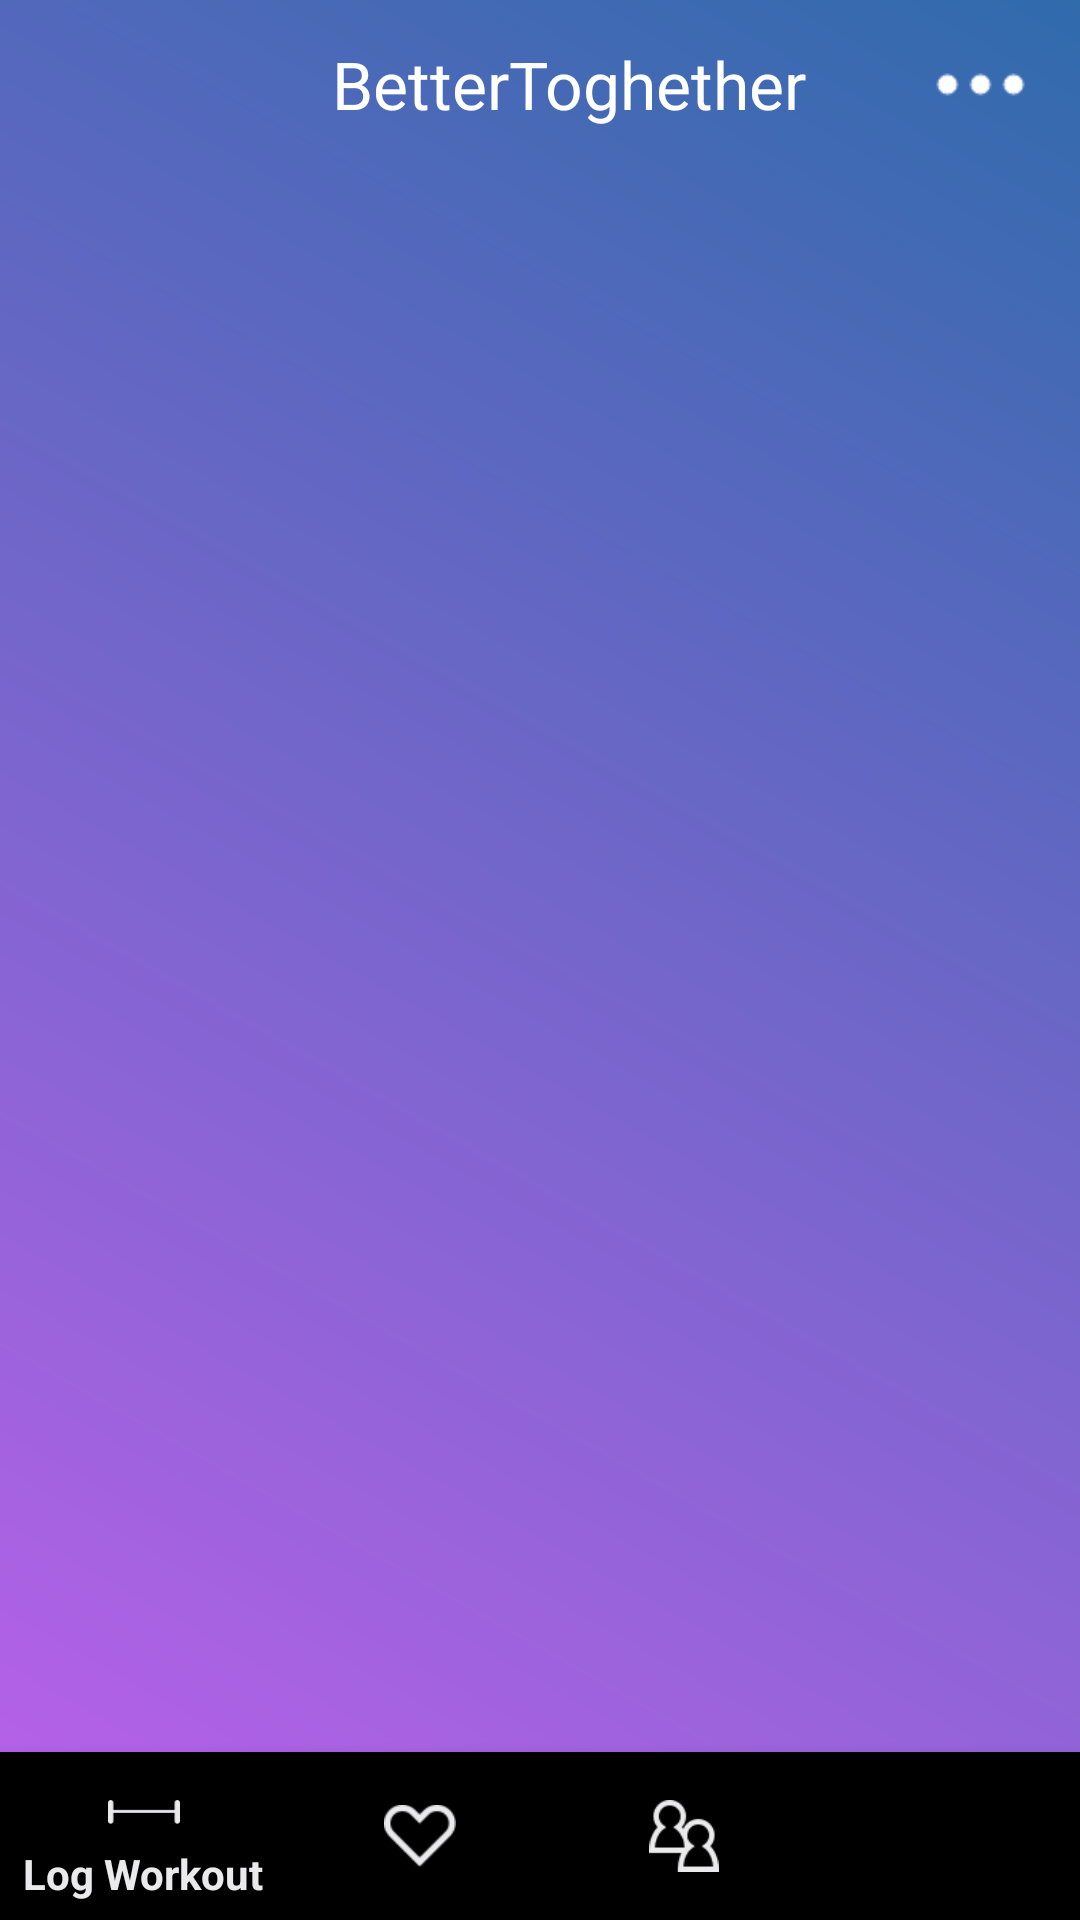

Locate icon controls on the screen. Image size 1080*1920, boxes as (x1, y1, x2, y2).
dot menu: (936, 73, 1025, 96)
